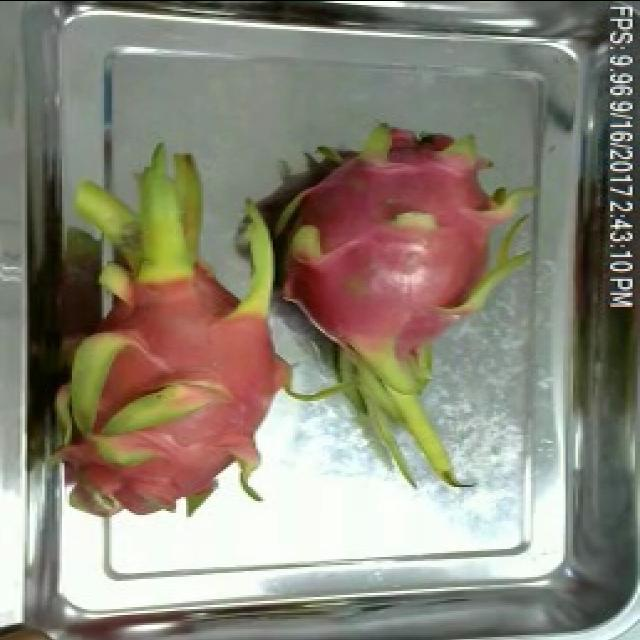Fruit: (0, 618, 70, 640)
